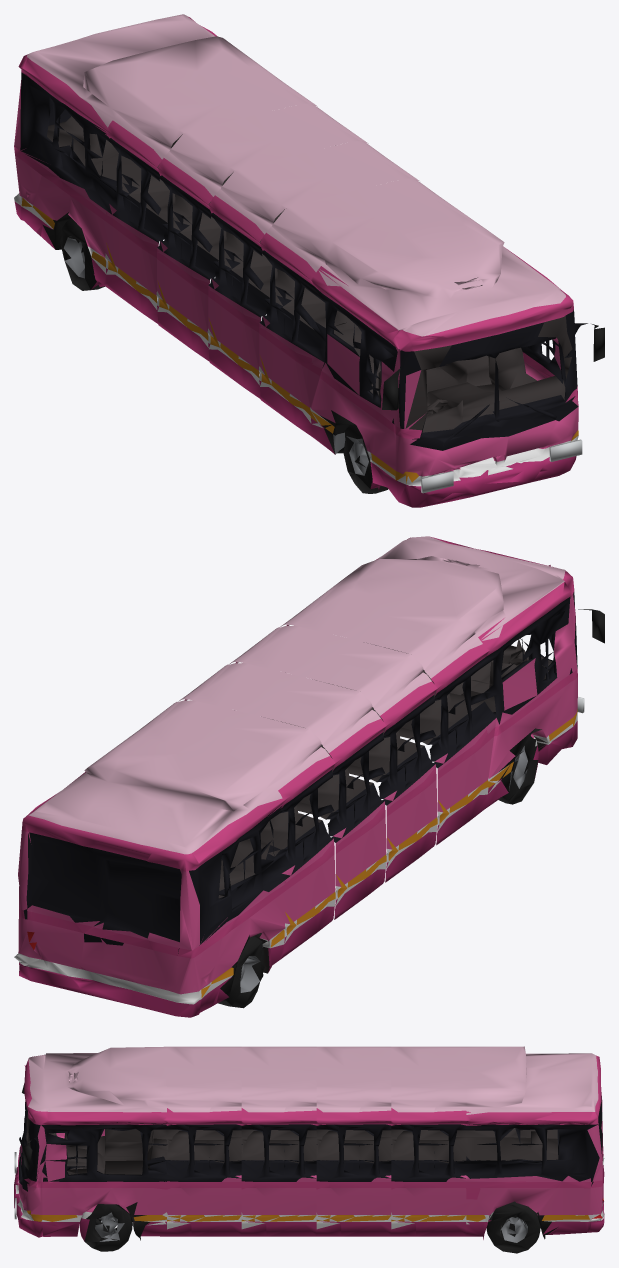
File: mtc_pink.glb
The picture shows the model from 3 angles, top to bottom: view 1: azimuth 30°, elevation 25°; view 2: azimuth 150°, elevation 25°; view 3: azimuth 270°, elevation 25°; orthographic projection. The views are drawn at different scales.
Parts seen in each view (by area): view 1: geometry_0; view 2: geometry_0; view 3: geometry_0.
Part boxes in pixels (x1,y1,x2,y2): geometry_0: (14,14,604,507); geometry_0: (14,536,604,1017); geometry_0: (14,1046,604,1253).
Size of the model in its own units: 3.22 by 2.95 by 10.11.
